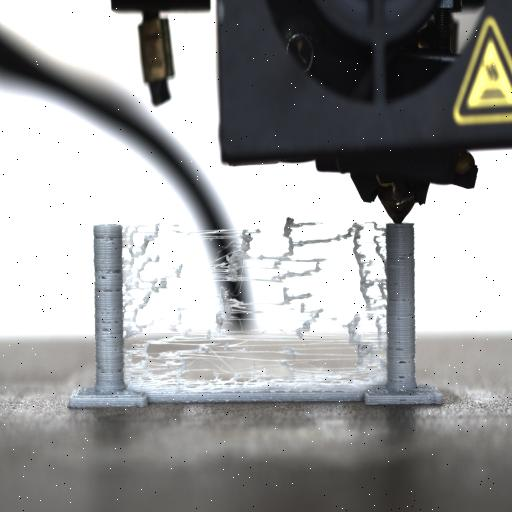stringing: (124, 221, 388, 399)
